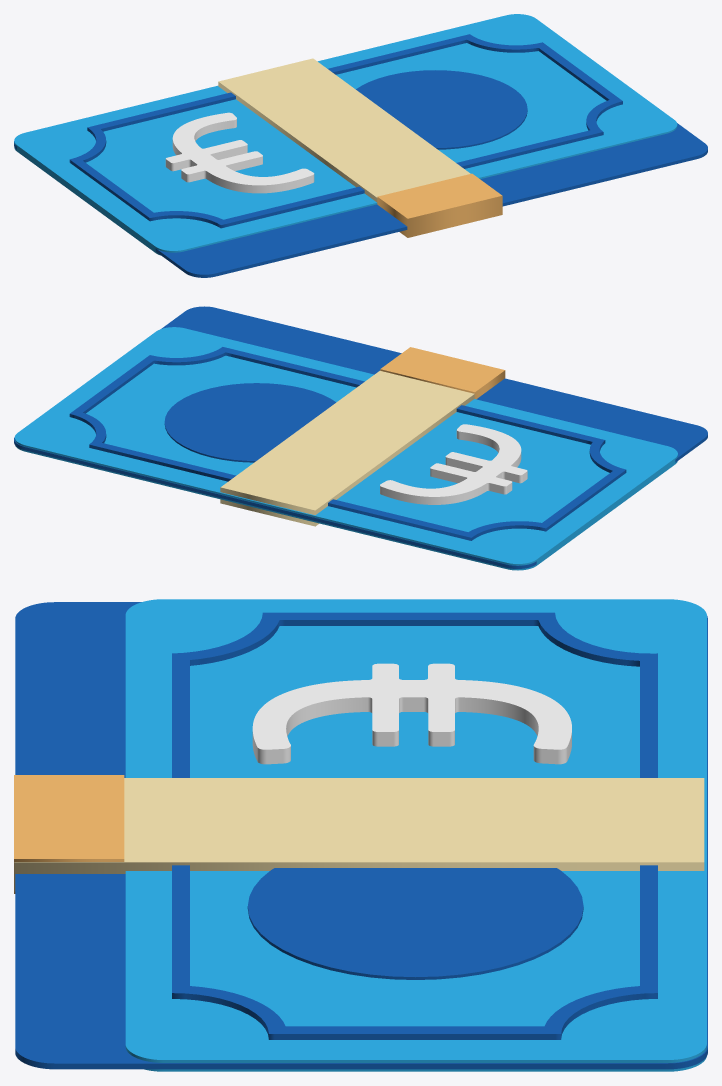
Rendered from emoji_u1f4b6.glb.
The picture shows the model from 3 angles, top to bottom: view 1: azimuth 30°, elevation 25°; view 2: azimuth 150°, elevation 25°; view 3: azimuth 270°, elevation 25°; orthographic projection. The views are drawn at different scales.
Visible parts, largest first — view 1: emoji_u1f4b6; view 2: emoji_u1f4b6; view 3: emoji_u1f4b6.
Boxes of the visible parts, x1,y1,x2,y2 form: emoji_u1f4b6: (14,14,707,277); emoji_u1f4b6: (14,306,707,570); emoji_u1f4b6: (14,599,707,1071).
Bounding box in the file's own units: 0.0339 × 0.0014 × 0.0215.
